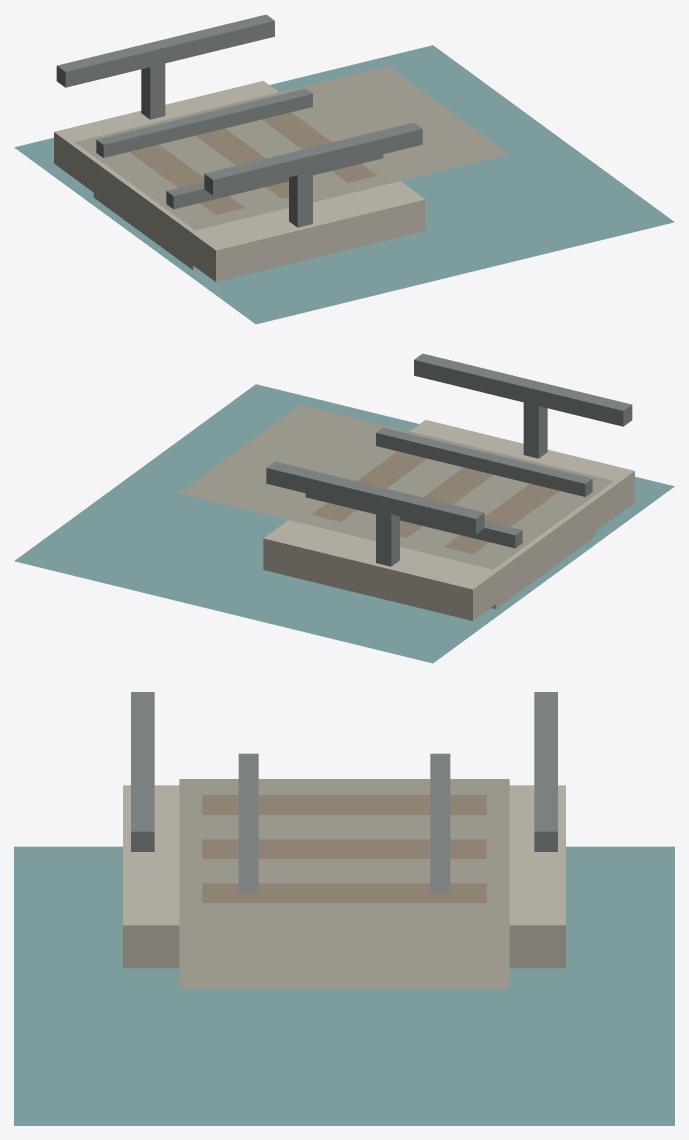
3 renders of one model, top to bottom at view 1: azimuth 30°, elevation 25°; view 2: azimuth 150°, elevation 25°; view 3: azimuth 270°, elevation 25°, orthographic. The views are drawn at different scales.
Visible parts, largest first — view 1: Near; view 2: Near; view 3: Near.
Part boxes in pixels (x1,y1,x2,y2): Near: (14,14,674,324); Near: (14,353,674,663); Near: (14,692,674,1125).
Bounding box in the file's own units: 1 × 0.258 × 1.
